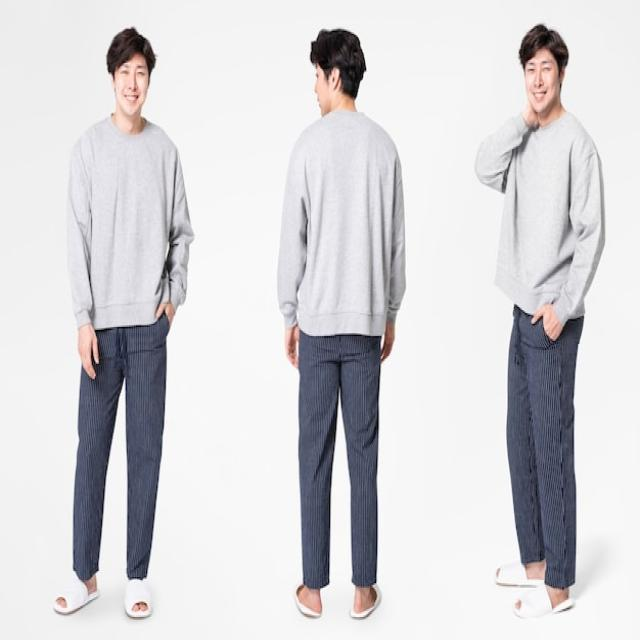Person: (54, 28, 194, 618), (474, 24, 605, 622), (276, 29, 406, 622)
